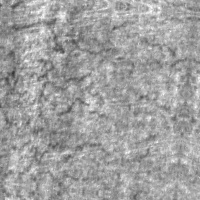crazing: (0, 11, 169, 148), (0, 128, 155, 195)
